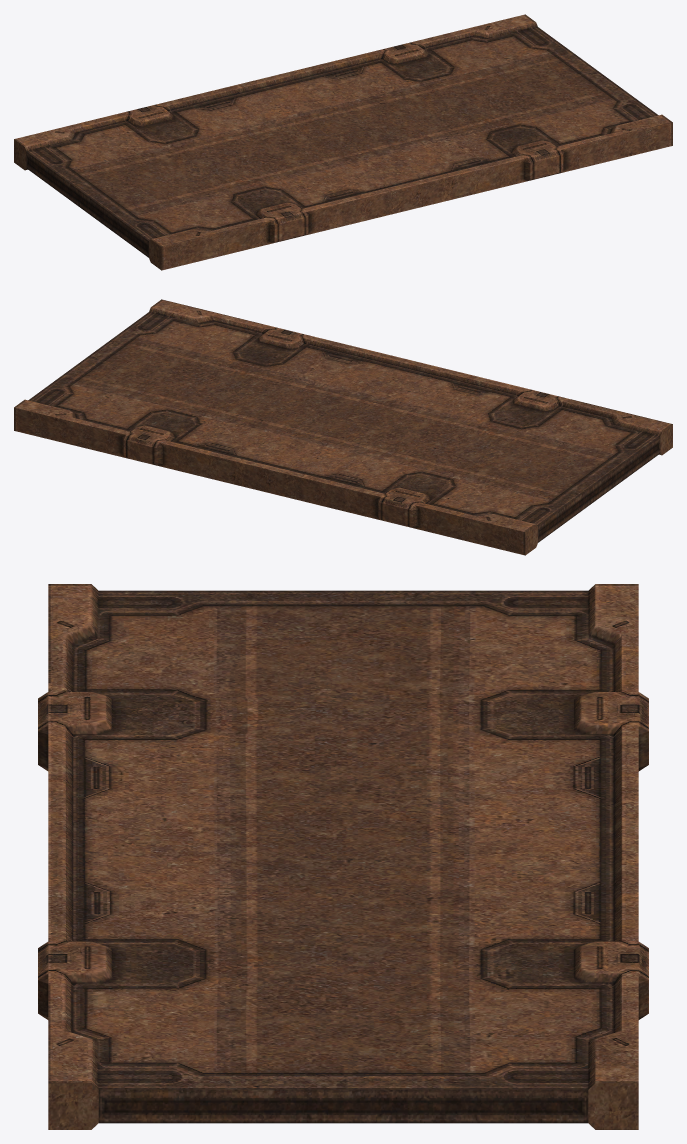
Rendered from catwalk_rusty_straight.dae.
The picture shows the model from 3 angles, top to bottom: view 1: azimuth 30°, elevation 25°; view 2: azimuth 150°, elevation 25°; view 3: azimuth 270°, elevation 25°; orthographic projection. The views are drawn at different scales.
Parts seen in each view (by area): view 1: straight; view 2: straight; view 3: straight.
Boxes of the visible parts, box(x1,y1,x2,y2) form: straight: box(14, 14, 672, 270); straight: box(14, 299, 672, 555); straight: box(38, 584, 648, 1129).
Size of the model in its own units: 4 by 0.1745 by 2.07.
